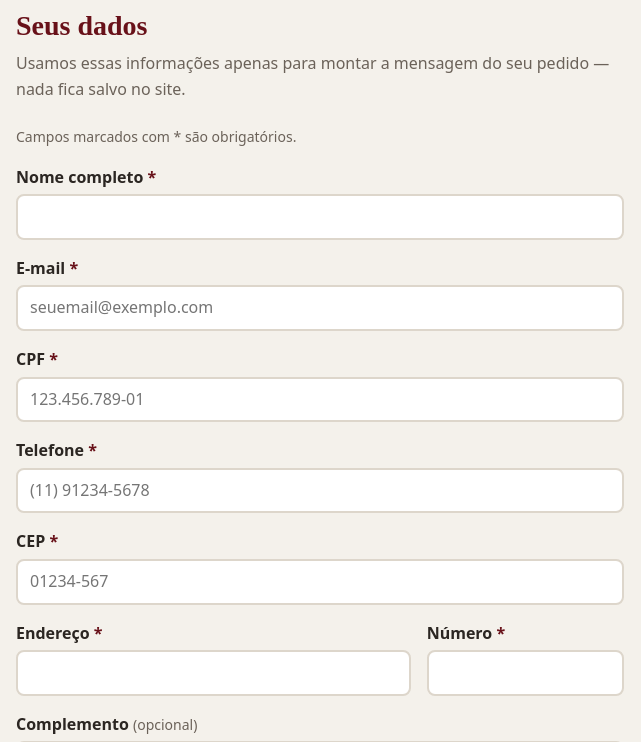
Test case: CheckoutPage › aplica máscaras de telefone e CEP durante a digitação
Type "11912345678" into the field labelled "Telefone *" at (320, 490), box x1=16 y1=468 x2=624 y2=513
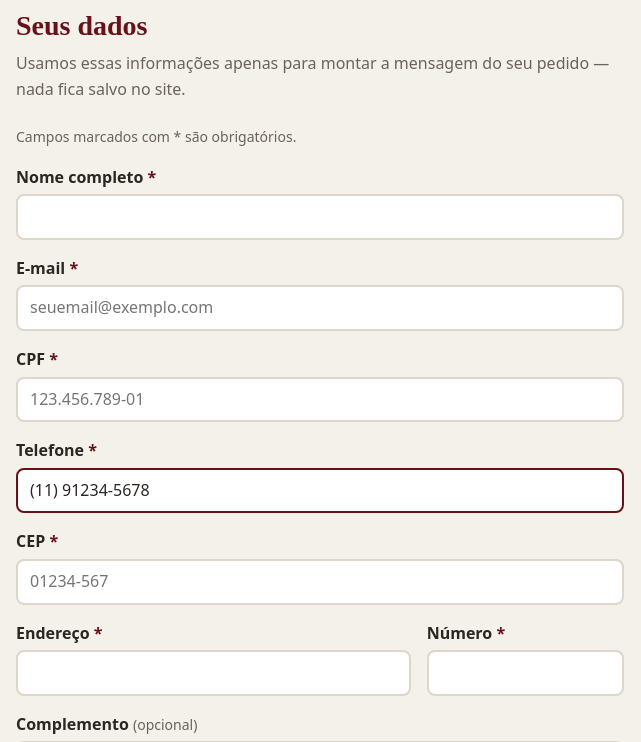
Check: the field labelled "Telefone *" holds "(11) 91234-5678", box x1=16 y1=468 x2=624 y2=513
Type "01234567" into the field labelled "CEP *" at (320, 582), box x1=16 y1=559 x2=624 y2=604
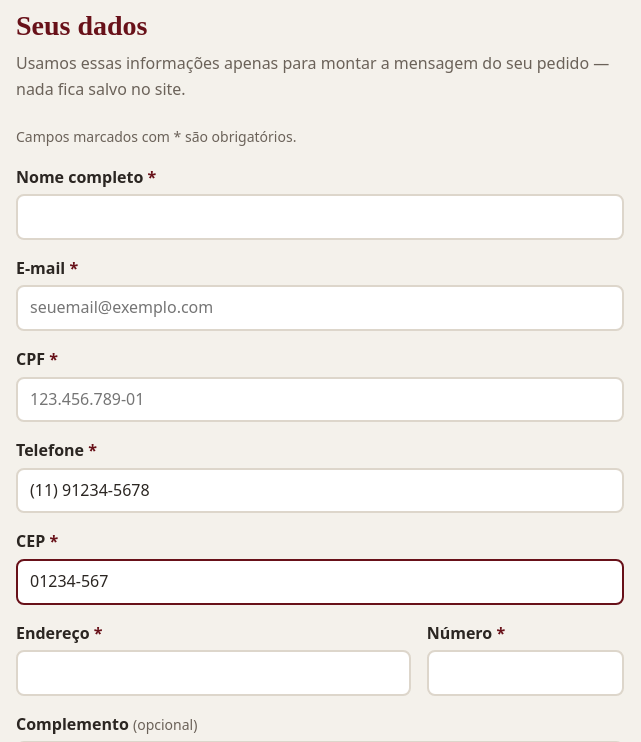
Check: the field labelled "CEP *" holds "01234-567", box x1=16 y1=559 x2=624 y2=604
